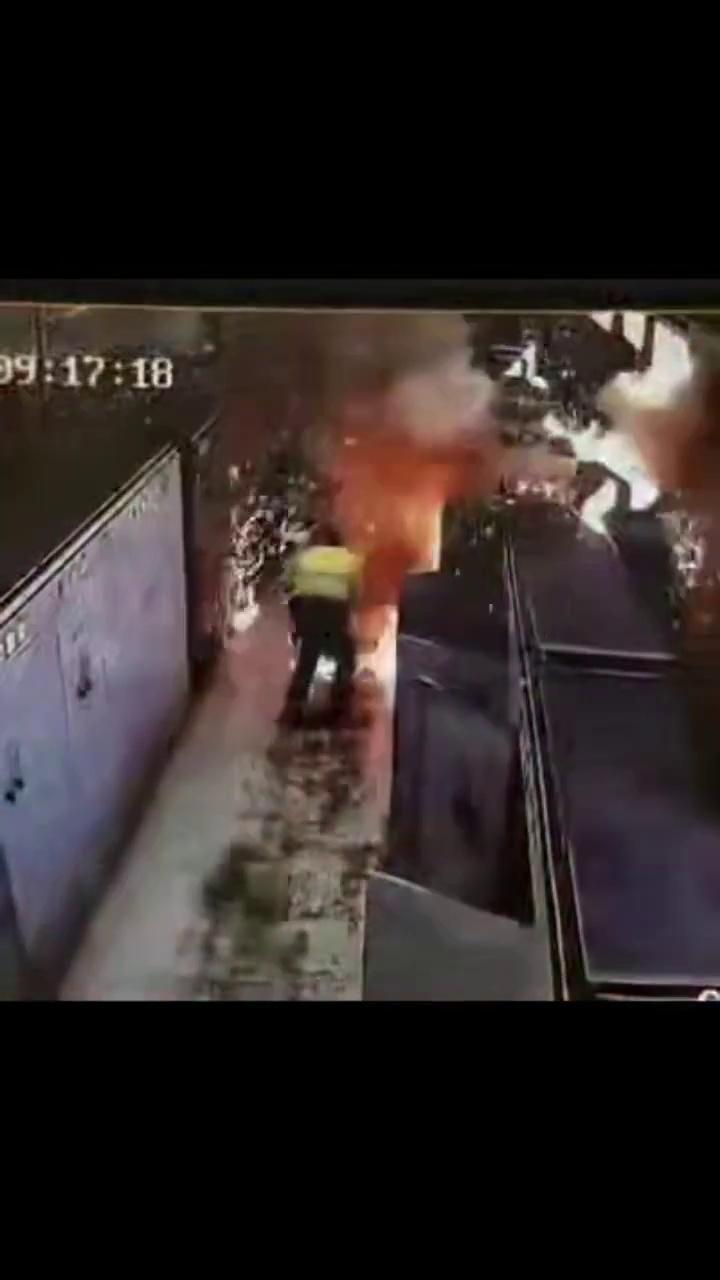fire: (207, 331, 702, 740)
